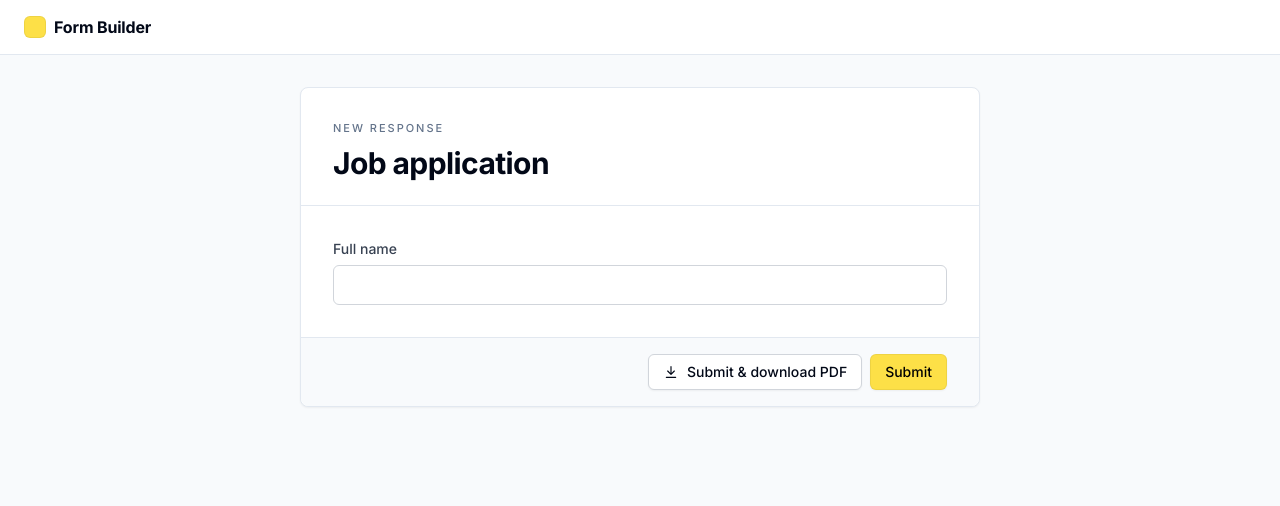
Test: if storage is full, Submit says so and stays on the form with the answers
Type "Jane" into the field labelled "Full name". click: (640, 284)
box: [334, 266, 946, 304]
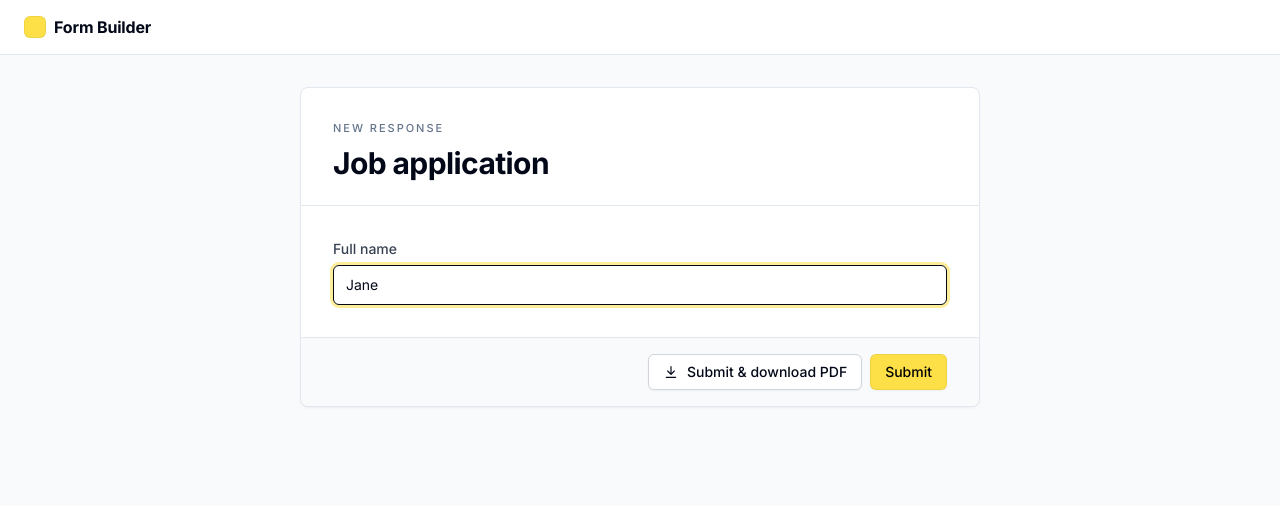
Click the button "Submit". click: (909, 372)
box: [870, 354, 947, 390]
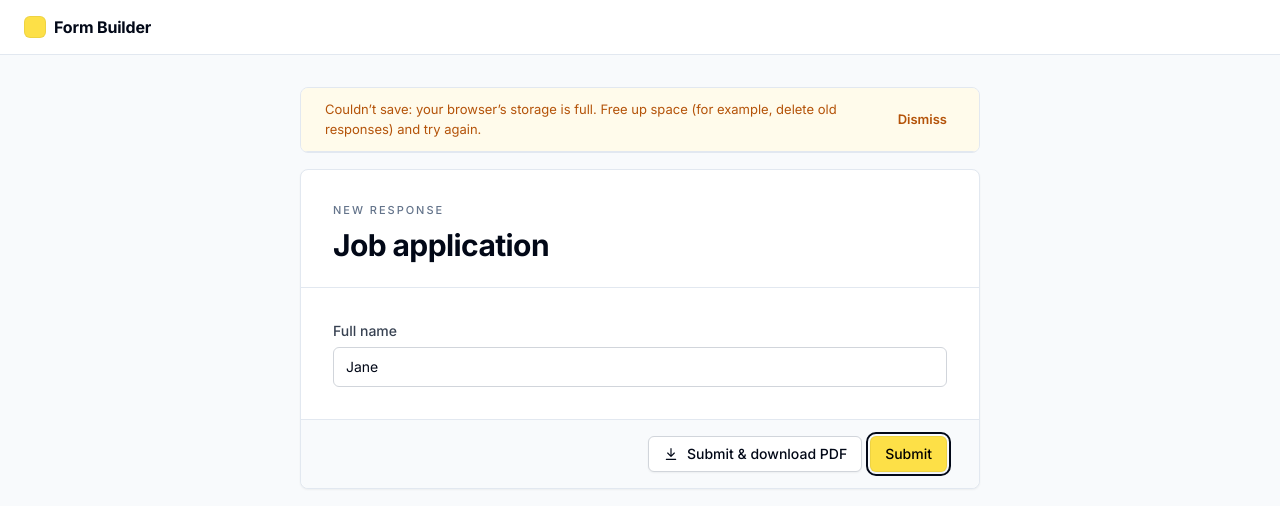
Now the text "Couldn’t save: your browser’s storage is full" is shown, box [325, 101, 837, 136]
